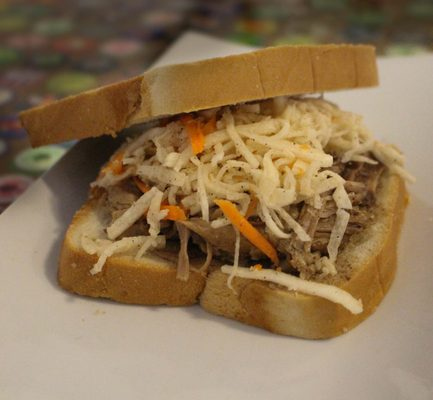soup: (43, 92, 405, 342)
